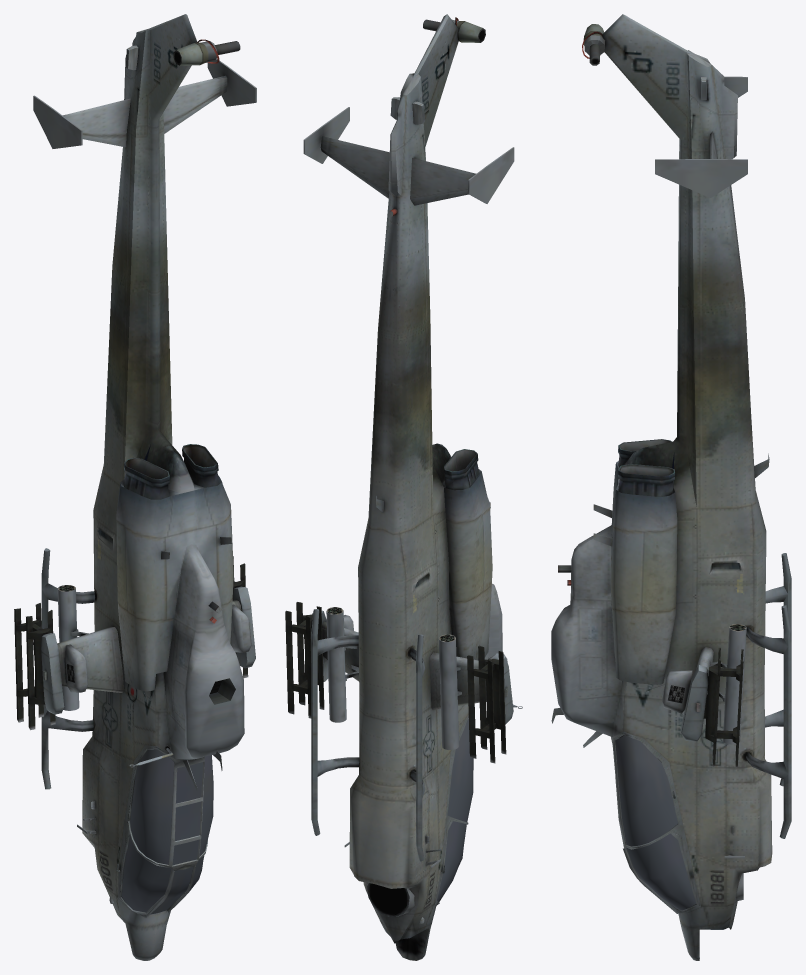
Rendered from viper.obj.
The picture shows the model from 3 angles, left to right: view 1: azimuth 30°, elevation 25°; view 2: azimuth 150°, elevation 25°; view 3: azimuth 270°, elevation 25°; orthographic projection. The views are drawn at different scales.
Parts seen in each view (by area): view 1: SMDImport; view 2: SMDImport; view 3: SMDImport.
Part boxes in pixels (x1,y1,x2,y2): SMDImport: [14, 14, 256, 960]; SMDImport: [285, 14, 522, 960]; SMDImport: [551, 14, 791, 960].
Bounding box in the file's own units: 133 × 568 × 131.
